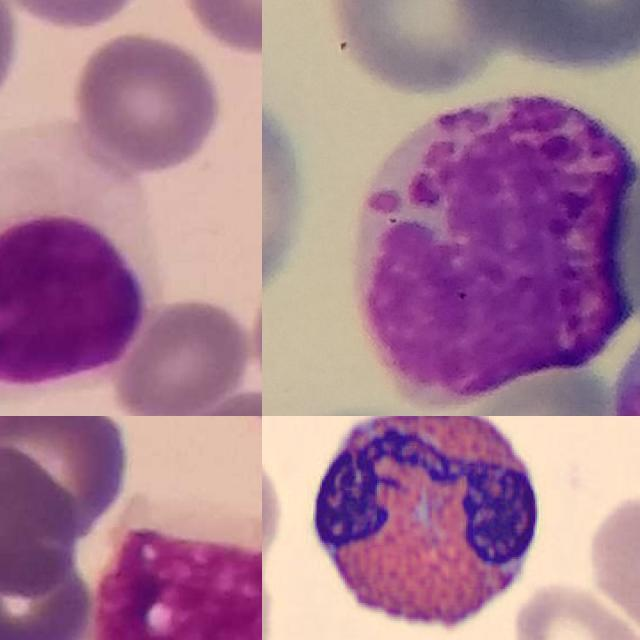Basophil: (348, 92, 636, 411)
Eosinophil: (291, 416, 553, 640)
Lymphocyte: (0, 119, 165, 403)
Monocyte: (58, 516, 262, 640)
RBC: (579, 488, 640, 640), (508, 581, 640, 640)
